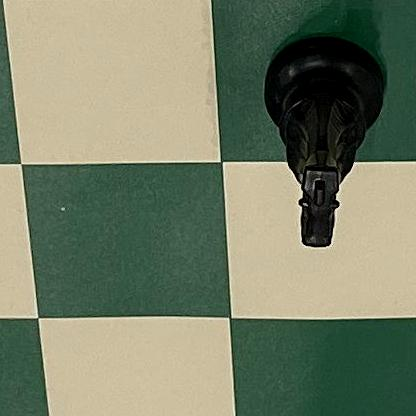black-knight: (261, 34, 389, 252)
